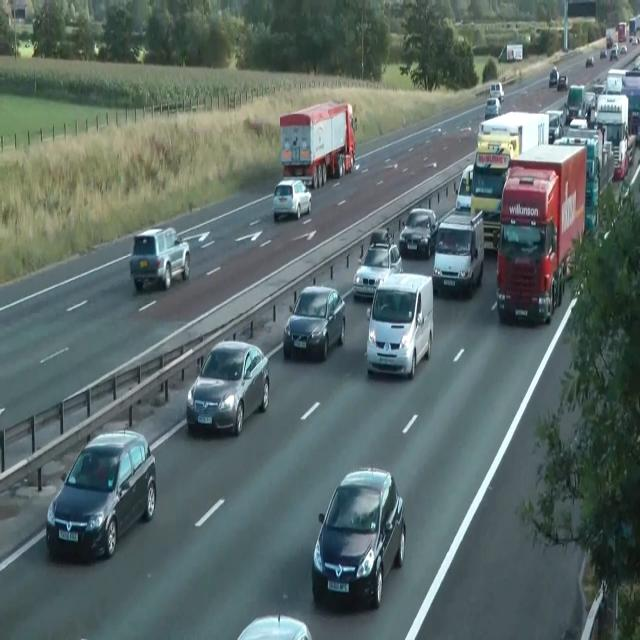bus: (311, 466, 405, 610), (186, 338, 270, 436), (282, 283, 346, 361), (352, 242, 402, 300), (236, 613, 312, 639), (272, 178, 312, 220), (455, 163, 473, 210), (545, 110, 563, 143), (484, 97, 500, 120), (490, 82, 504, 102), (549, 67, 559, 86), (557, 74, 567, 90), (610, 47, 618, 60), (586, 55, 594, 67), (619, 44, 627, 54), (606, 36, 612, 48), (600, 49, 606, 58)
car: (435, 68, 639, 326)
jeep: (46, 427, 156, 561), (366, 271, 434, 379), (432, 208, 484, 298), (129, 226, 191, 292), (398, 206, 438, 258)
minibus: (494, 143, 586, 324), (279, 100, 357, 188), (552, 126, 614, 236), (470, 150, 510, 251), (593, 94, 635, 180), (477, 110, 549, 160), (606, 68, 640, 142), (606, 21, 627, 48), (498, 44, 523, 62), (628, 14, 640, 44)
